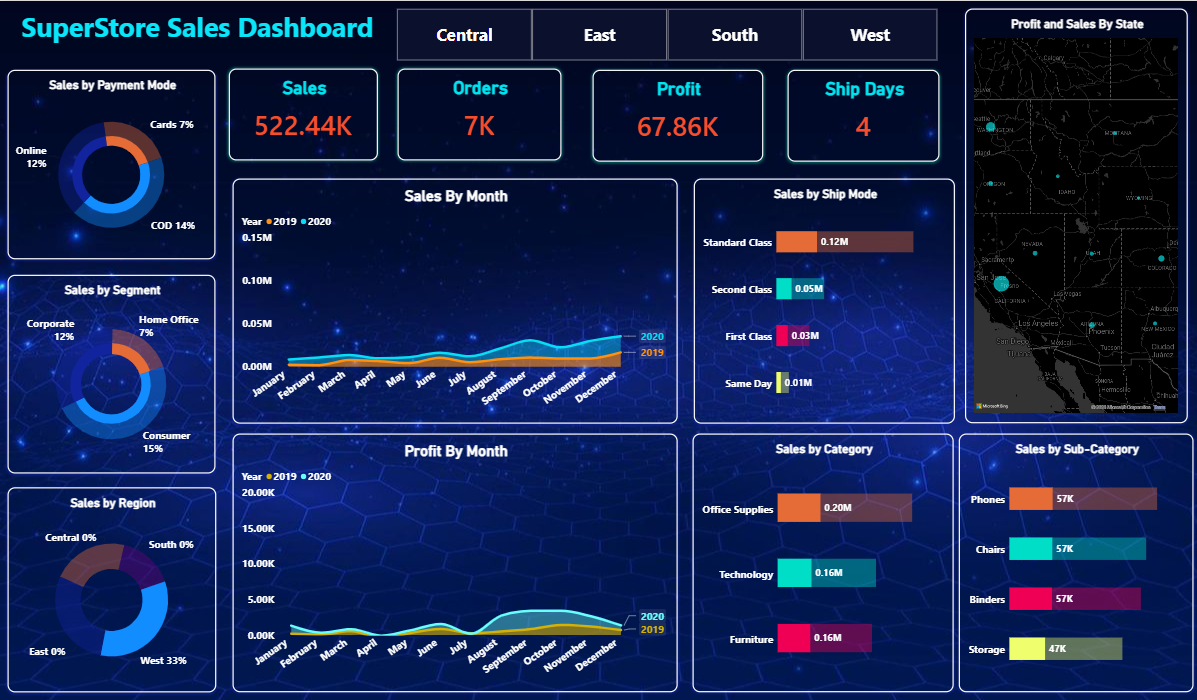

Layout of this report page (visuals, bound fields, positions):
{"tool":"powerbi","page":{"name":"Page 1","canvas":[2400,1400],"ordinal":0},"visuals":[{"type":"clusteredBarChart","title":"Sales by Category","fields":{"Category":["SuperStore_Sales_Dataset.Category"],"Y":["Sum(SuperStore_Sales_Dataset.Sales)"]},"box":[1385,865,522.7,517.3],"z":0},{"type":"clusteredBarChart","title":"Sales by Sub-Category","fields":{"Category":["SuperStore_Sales_Dataset.Sub-Category"],"Y":["Sum(SuperStore_Sales_Dataset.Sales)"]},"box":[1917.5,865,469.3,517.3],"z":1000},{"type":"clusteredBarChart","title":"Sales by Ship Mode","fields":{"Category":["SuperStore_Sales_Dataset.Ship Mode"],"Y":["Sum(SuperStore_Sales_Dataset.Sales)"]},"box":[1386.7,354.7,522.7,490.7],"z":2000},{"type":"stackedAreaChart","title":"Sales By Month","fields":{"Category":["SuperStore_Sales_Dataset.Order Date.Variation.Date Hierarchy.Month"],"Series":["SuperStore_Sales_Dataset.Order Date.Variation.Date Hierarchy.Year"],"Y":["Sum(SuperStore_Sales_Dataset.Sales)"]},"box":[464,354.7,890.7,490.7],"z":3000},{"type":"stackedAreaChart","title":"Profit By Month","fields":{"Category":["SuperStore_Sales_Dataset.Order Date.Variation.Date Hierarchy.Month"],"Series":["SuperStore_Sales_Dataset.Order Date.Variation.Date Hierarchy.Year"],"Y":["Sum(SuperStore_Sales_Dataset.Profit)"]},"box":[464,864,890.7,517.3],"z":4000},{"type":"map","title":"Profit and Sales By State","fields":{"Category":["SuperStore_Sales_Dataset.State"],"Size":["Sum(SuperStore_Sales_Dataset.Sales)"]},"box":[1930.7,16,445.3,829.3],"z":5000},{"type":"donutChart","title":"Sales by Segment","fields":{"Category":["SuperStore_Sales_Dataset.Segment"],"Y":["Sum(SuperStore_Sales_Dataset.Sales)"]},"box":[16,546.7,416,397.3],"z":6000},{"type":"cardVisual","title":"Sales","fields":{"Data":["Sum(SuperStore_Sales_Dataset.Sales)"]},"box":[458.7,136,298.7,184],"z":7000},{"type":"cardVisual","title":"Orders","fields":{"Data":["Sum(SuperStore_Sales_Dataset.Quantity)"]},"box":[794.7,136,328,184],"z":8000},{"type":"cardVisual","title":"Profit","fields":{"Data":["Sum(SuperStore_Sales_Dataset.Profit)"]},"box":[1184,138.7,341.3,184],"z":9000},{"type":"cardVisual","title":"Ship Days","fields":{"Data":["Avg(SuperStore_Sales_Dataset.AvgDelivery)"]},"box":[1576,138.7,304,184],"z":10000},{"type":"donutChart","title":"Sales by Payment Mode","fields":{"Category":["SuperStore_Sales_Dataset.Payment Mode"],"Y":["Sum(SuperStore_Sales_Dataset.Sales)"]},"box":[16,138.7,416,379.3],"z":11000},{"type":"donutChart","title":"Sales by Region","fields":{"Category":["SuperStore_Sales_Dataset.Region"],"Y":["Sum(SuperStore_Sales_Dataset.Sales)"]},"box":[15,972.5,417.5,410],"z":12000},{"type":"slicer","fields":{"Values":["SuperStore_Sales_Dataset.Region"]},"box":[757.3,0,1152,136],"z":13000},{"type":"textbox","box":[42.7,16,830.6,97.1],"z":14000}]}

Visuals, with their boxes in screenshot pixels (x1, y1, x2, y2), scaled from the page's 2400x1400 canvas onto the 1197x700 screenshot:
"Sales by Category" clusteredBarChart: l=691, t=432, r=951, b=691
"Sales by Sub-Category" clusteredBarChart: l=956, t=432, r=1190, b=691
"Sales by Ship Mode" clusteredBarChart: l=692, t=177, r=952, b=423
"Sales By Month" stackedAreaChart: l=231, t=177, r=676, b=423
"Profit By Month" stackedAreaChart: l=231, t=432, r=676, b=691
"Profit and Sales By State" map: l=963, t=8, r=1185, b=423
"Sales by Segment" donutChart: l=8, t=273, r=215, b=472
"Sales" cardVisual: l=229, t=68, r=378, b=160
"Orders" cardVisual: l=396, t=68, r=560, b=160
"Profit" cardVisual: l=591, t=69, r=761, b=161
"Ship Days" cardVisual: l=786, t=69, r=938, b=161
"Sales by Payment Mode" donutChart: l=8, t=69, r=215, b=259
"Sales by Region" donutChart: l=7, t=486, r=216, b=691
slicer - SuperStore_Sales_Dataset.Region: l=378, t=0, r=952, b=68
textbox: l=21, t=8, r=436, b=57
